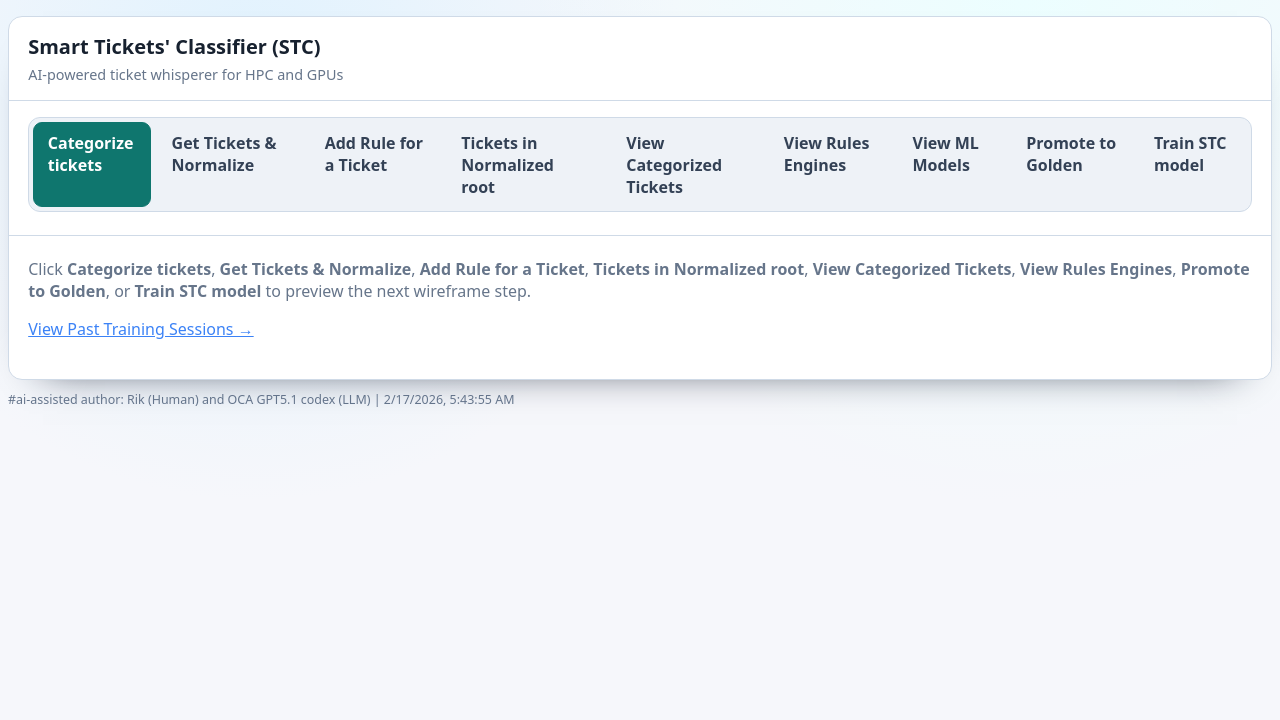
it: STC wireframe flow › shows rules engines with trained-data default and golden switch
Click the link "View Rules Engines" at (827, 154), box [784,132,869,176]
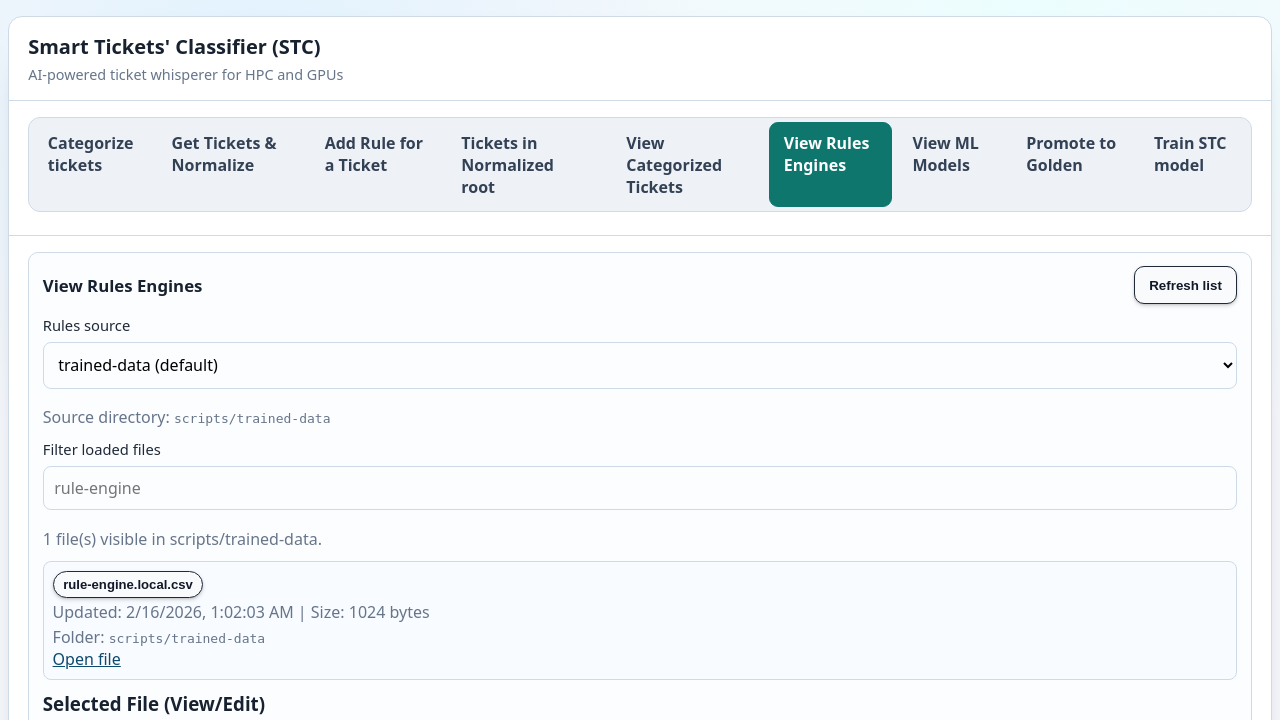
expect the button "rule-engine.local.csv" is shown: met, box [53,571,204,598]
expect the dropdown labelled "Rules source" shows "trained-data (default)": met
Select "golden-rules-engine" in the dropdown labelled "Rules source" at (640, 365), box [43,342,1237,388]
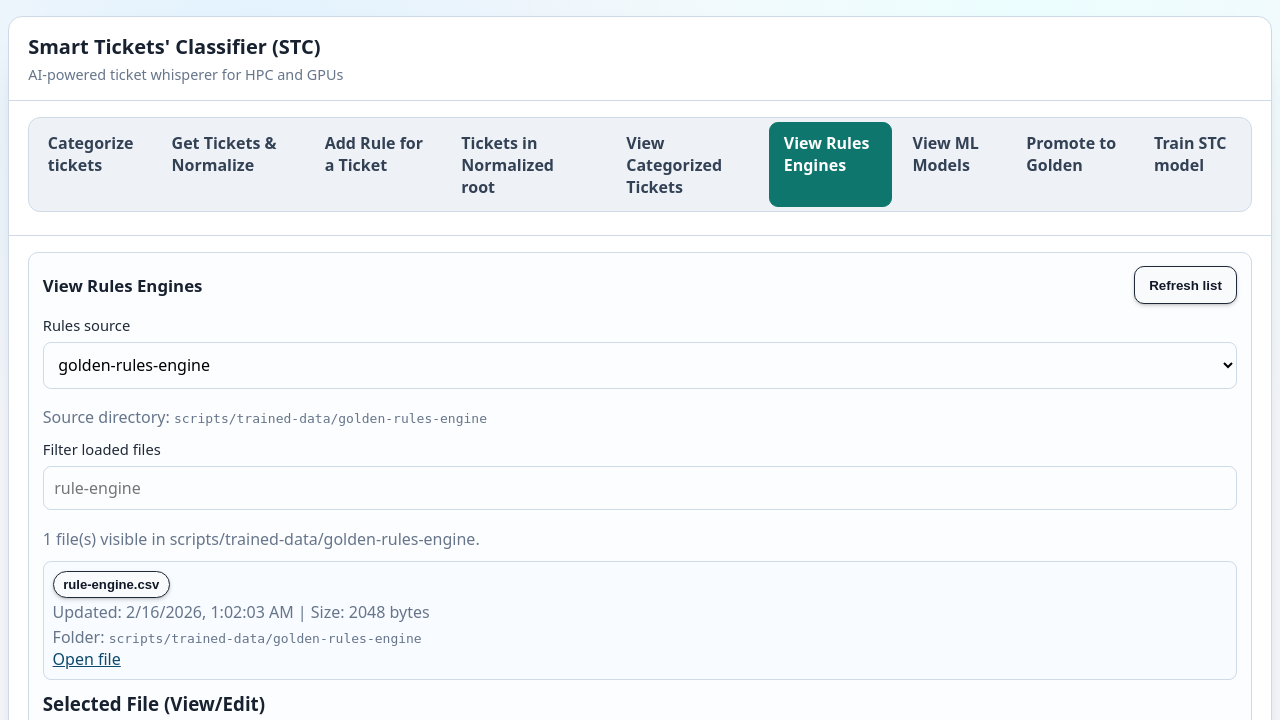
expect the button "rule-engine.csv" is shown: met, box [53,571,170,598]
